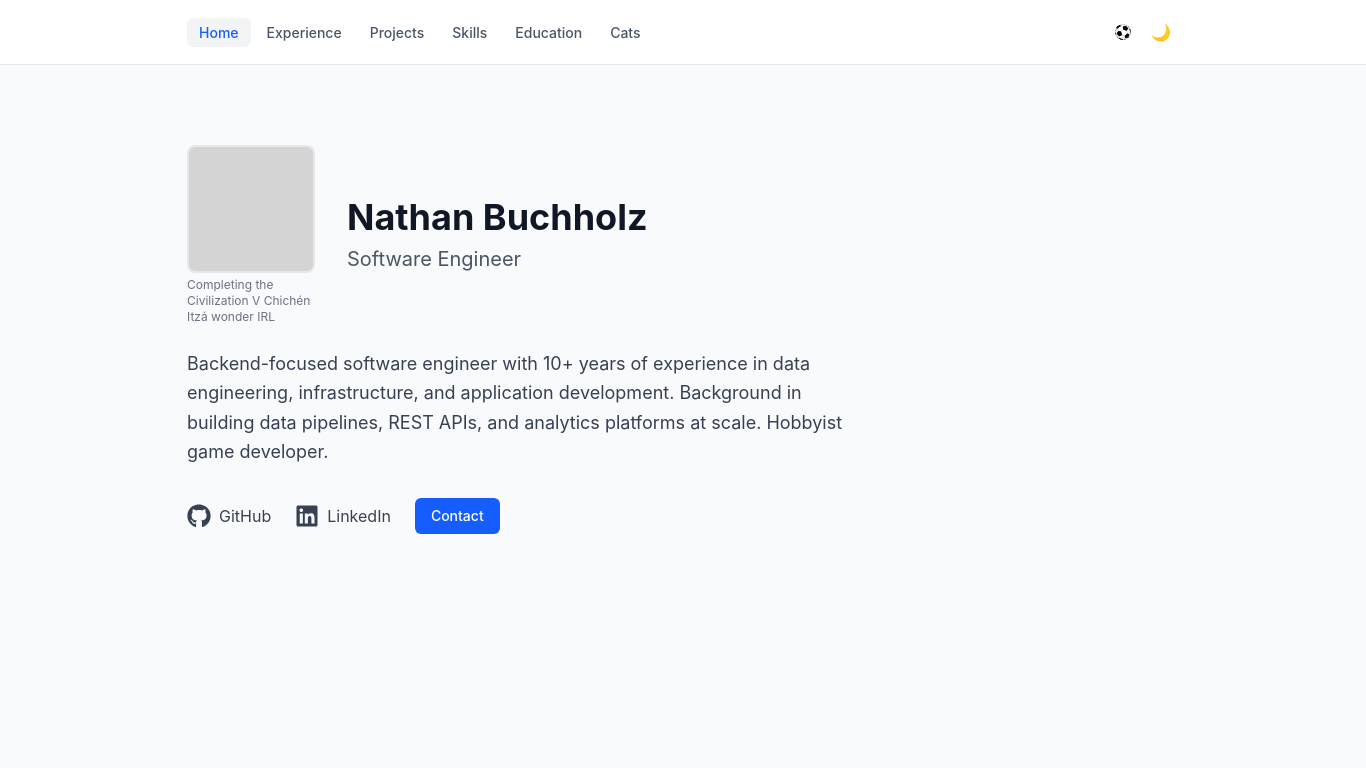
Test: Soccer game › closes soccer game via Escape key
The width and height of the screenshot is (1366, 768).
Click the button named "Play soccer juggling game". click: {"x": 1123, "y": 32}
box: [1107,16,1139,48]
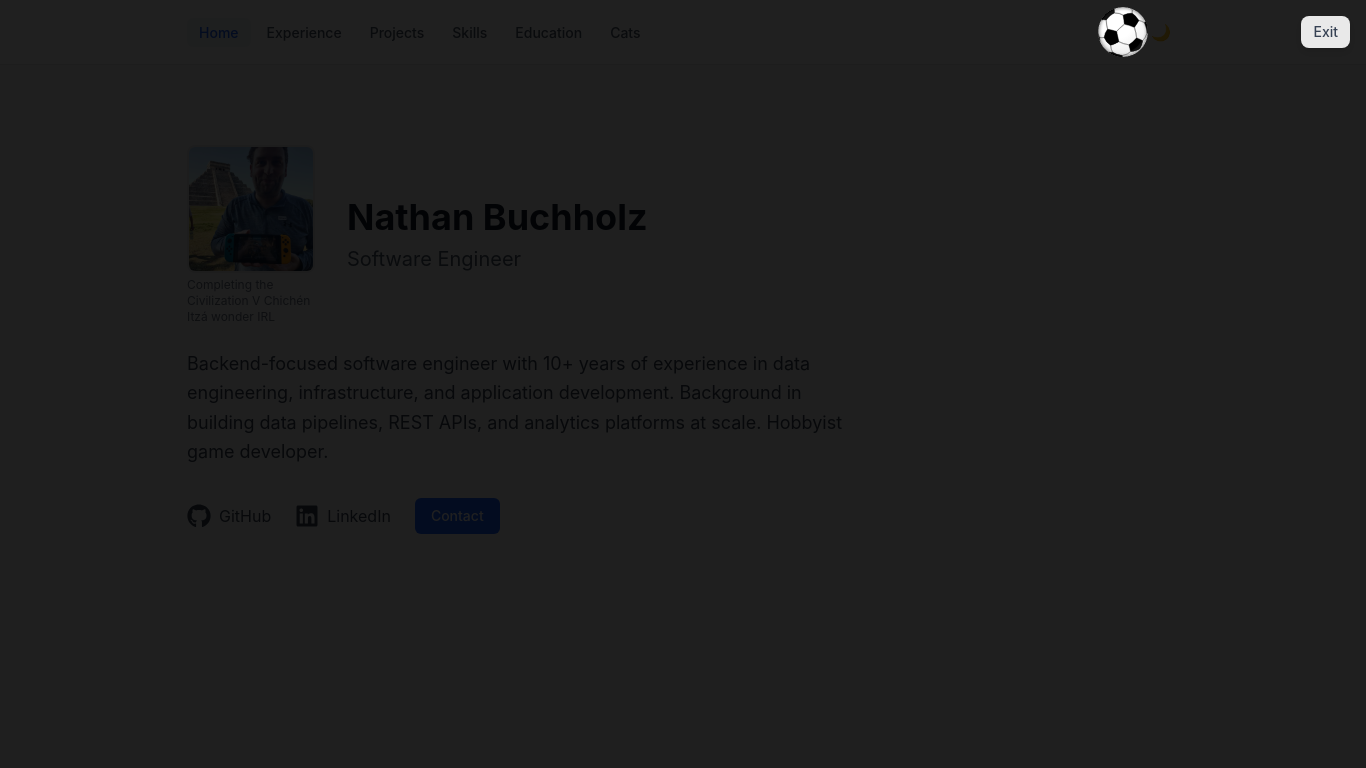
Now the element with class "inset-0" showing "Exit" is shown
Press Esc
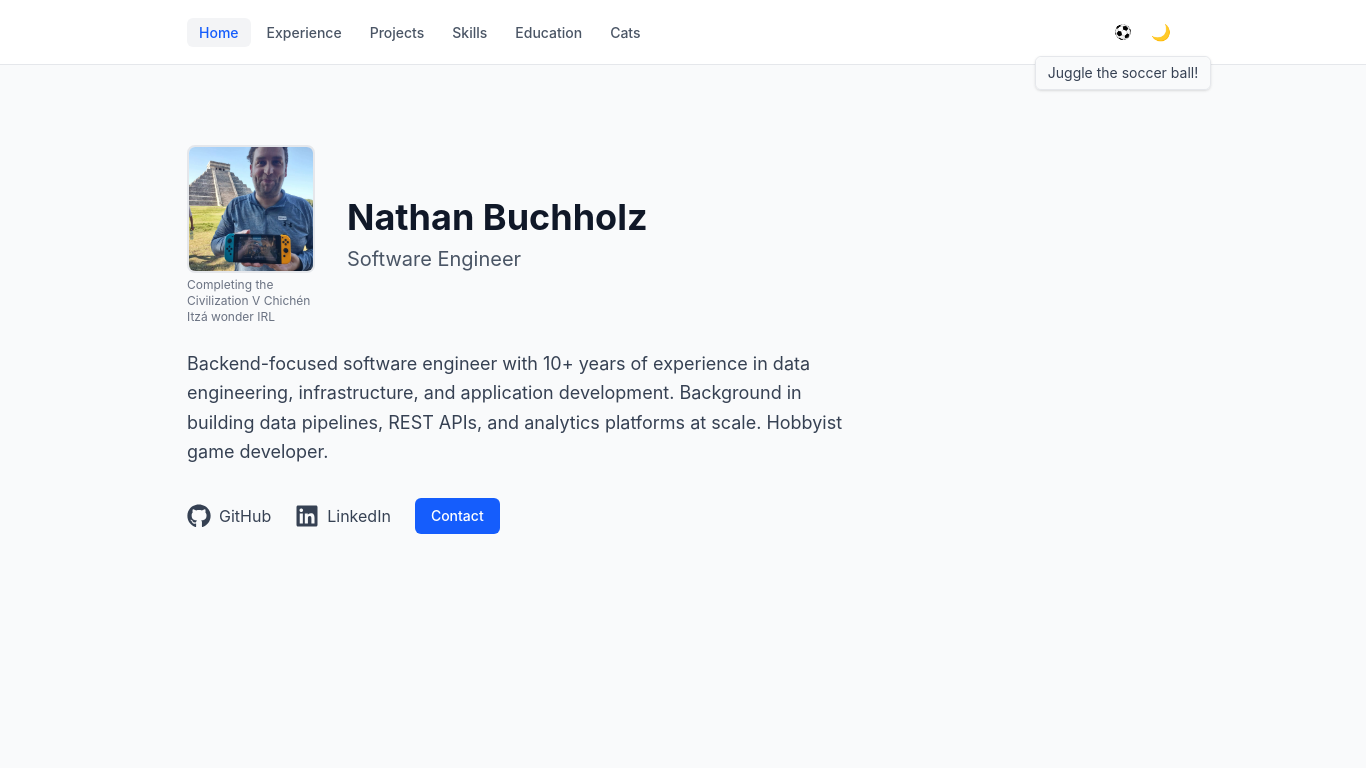
Now the text "Exit" is gone
